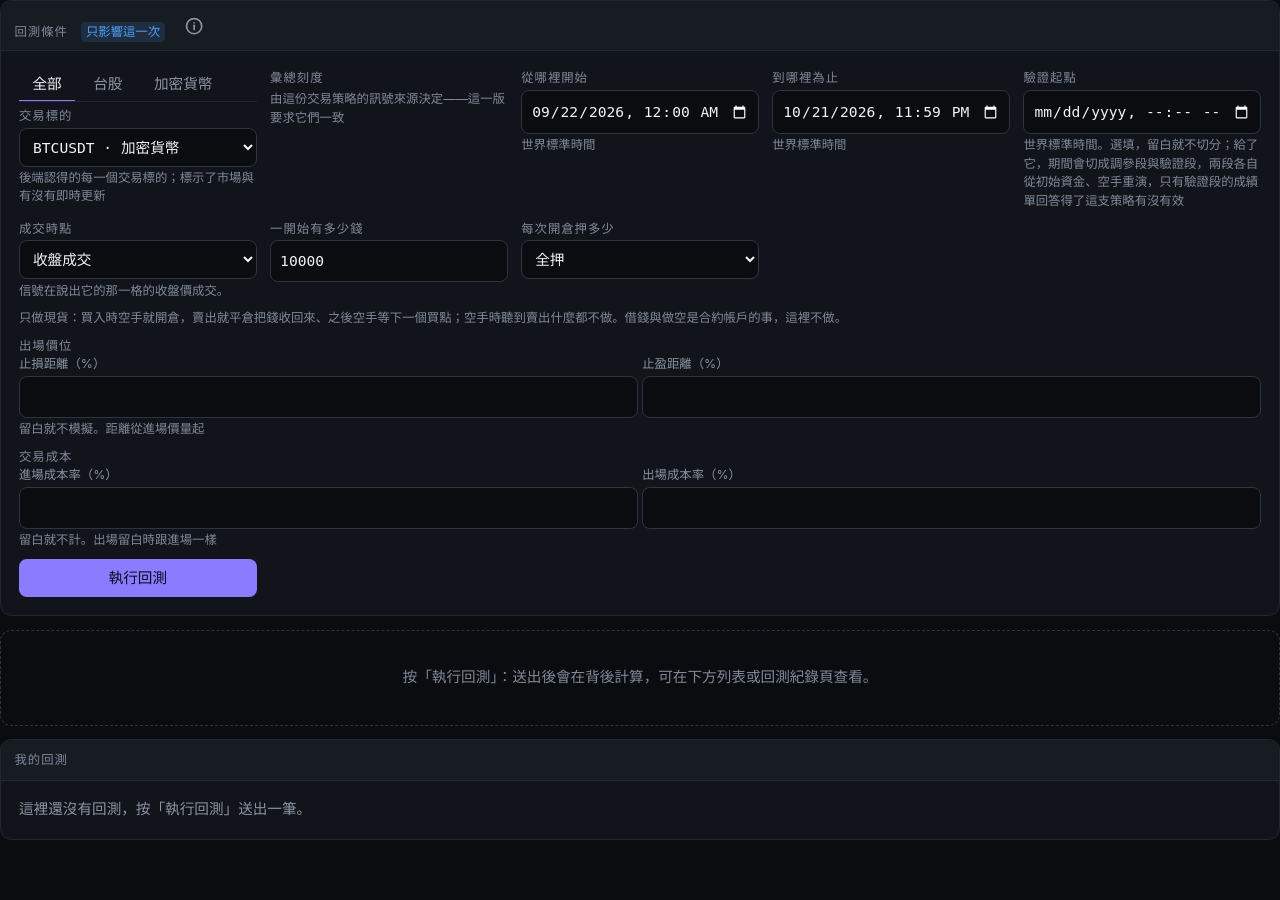
TradingStrategyBacktestPane › 出錯的時候 › 來源刻度對不起來時，說明落在市場那一格旁邊
Select "BTCUSDT · 加密貨幣" in the dropdown with test id "symbol-select" at x=138, y=147, box x1=19 y1=128 x2=257 y2=166
Submit the form
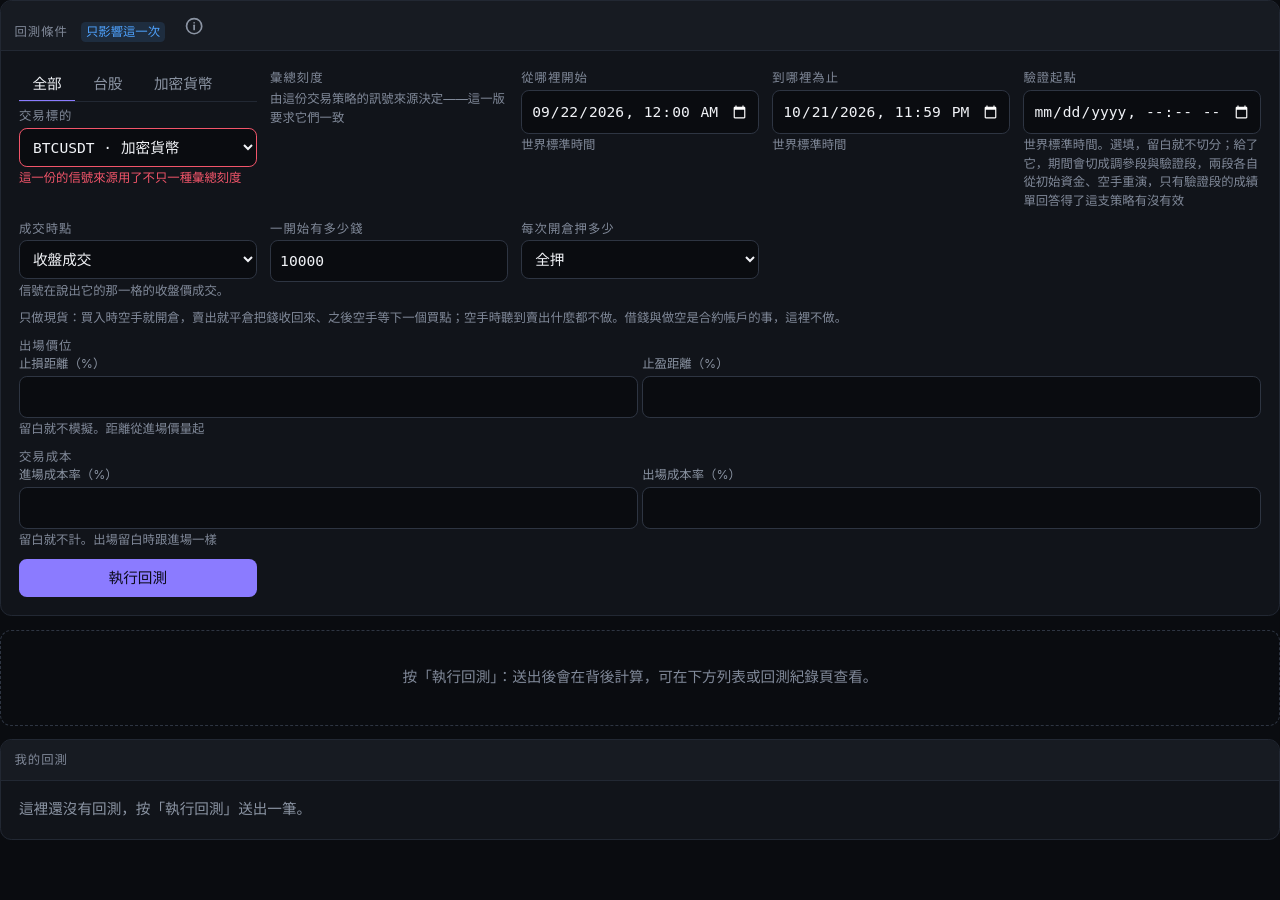
Result: the text with test id "field-error" reads "這一份的信號來源用了不只一種彙總刻度" at x1=19 y1=170 x2=242 y2=185
